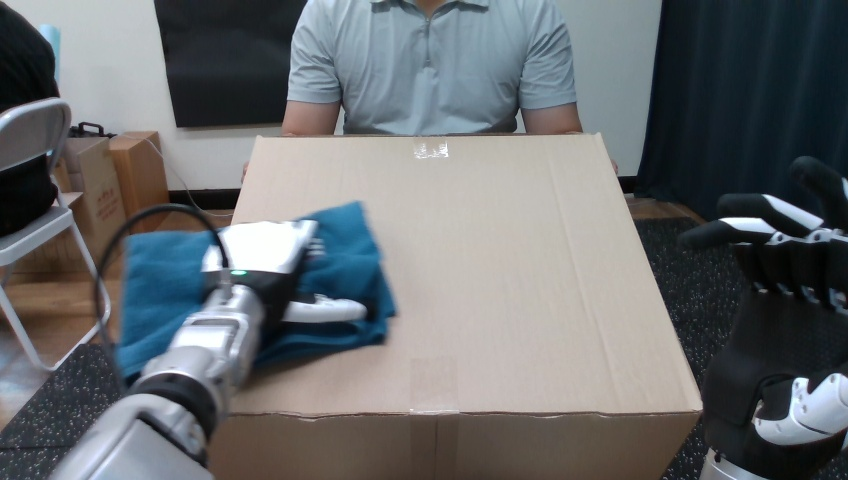left robot hand: (50, 220, 366, 479), (679, 156, 847, 313)
